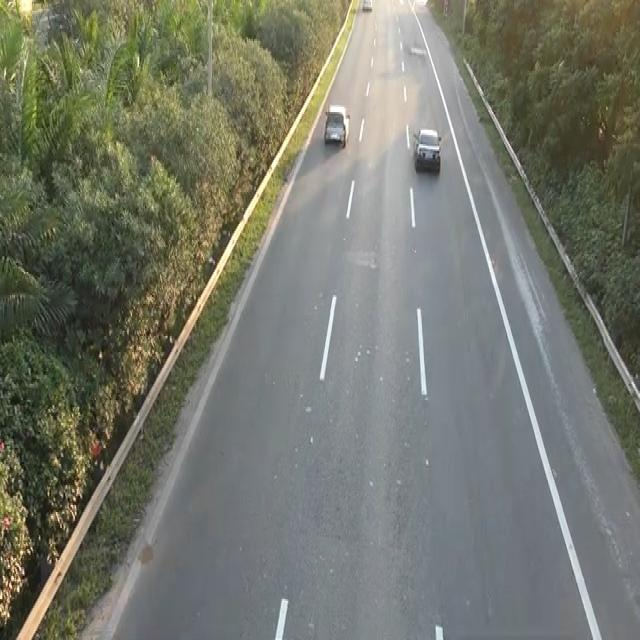bus: (411, 122, 445, 180), (321, 101, 352, 155)
